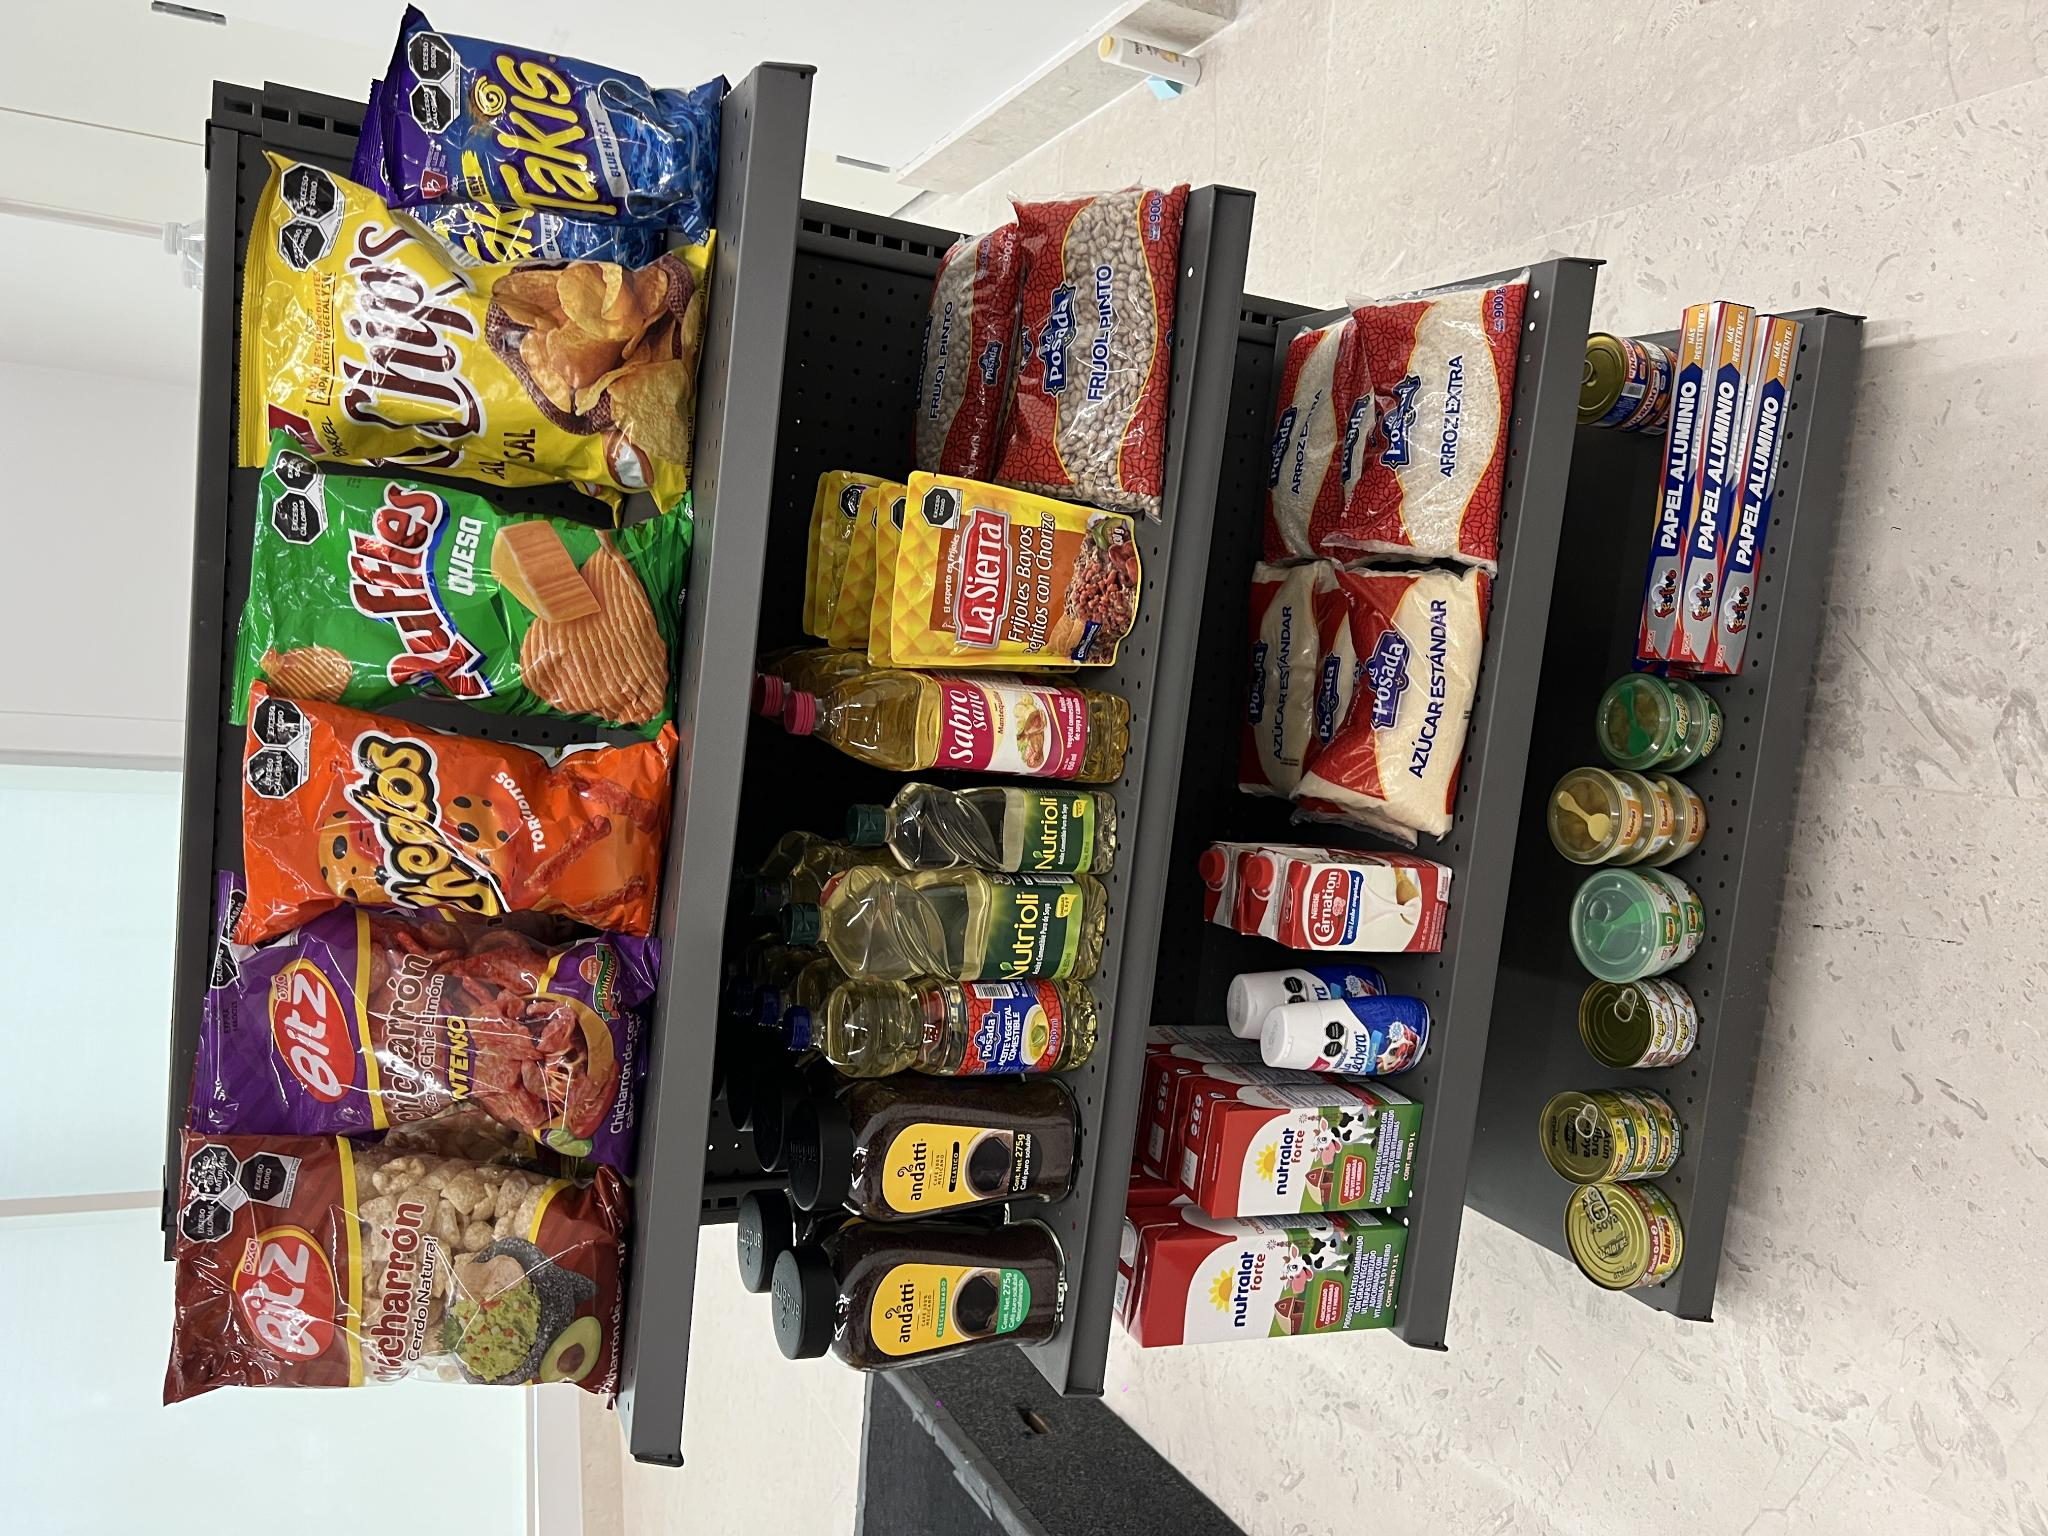aceite_nutrioli_400ml: (653, 841, 753, 1128)
aceite_nutrioli_850ml: (550, 771, 671, 1102)
aceite_posada: (460, 779, 553, 1102)
aceite_saborsano: (745, 784, 868, 1139)
andatti: (153, 786, 318, 1070), (313, 803, 448, 1081)
arroz_laposada: (966, 1323, 1274, 1525)
azucar_laposada: (689, 1281, 982, 1494)
carnation: (582, 1273, 684, 1452)
cheetos: (579, 237, 864, 681)
chicharron_bitz_intenso: (353, 189, 627, 655)
chicharron_bitz_natural: (131, 158, 411, 620)
chips_sal: (1040, 236, 1388, 720)
frijol_laposada: (1016, 991, 1359, 1187)
frijol_lasierra: (871, 886, 1068, 1139)
lalechera: (455, 1260, 539, 1426)
leche_nutralatforte: (182, 1128, 316, 1407), (318, 1200, 442, 1426)
ruffles: (806, 236, 1108, 699)
takis: (1300, 387, 1521, 723)
